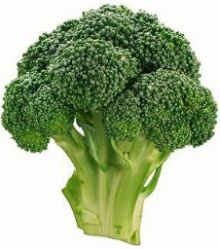broccoli: (0, 3, 219, 246)
